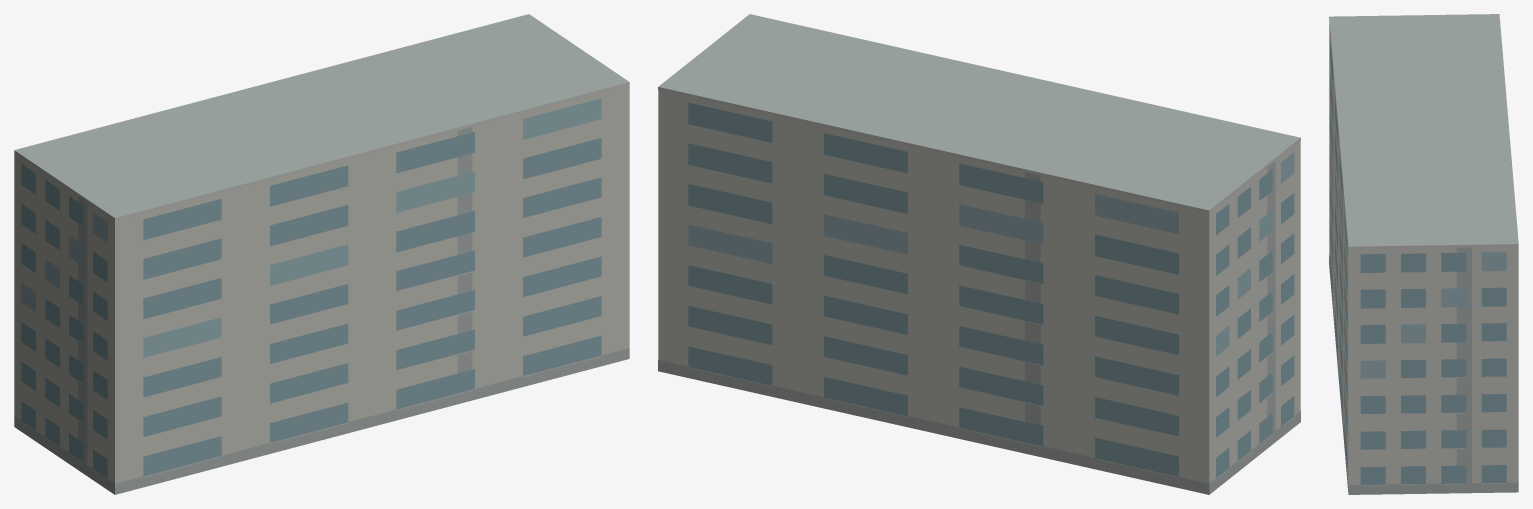
Rendered from residential-5dea3d6a-8963-4088-86a8-dba071104dfd.glb.
3 renders of one model, left to right at view 1: azimuth 30°, elevation 25°; view 2: azimuth 150°, elevation 25°; view 3: azimuth 270°, elevation 25°, orthographic. The views are drawn at different scales.
Visible parts, largest first — view 1: residential-5dea3d6a-8963-4088-86a8-dba071104dfd.tmp; view 2: residential-5dea3d6a-8963-4088-86a8-dba071104dfd.tmp; view 3: residential-5dea3d6a-8963-4088-86a8-dba071104dfd.tmp.
Boxes of the visible parts, left/top/right/bottom form: residential-5dea3d6a-8963-4088-86a8-dba071104dfd.tmp: left=14, top=14, right=629, bottom=494; residential-5dea3d6a-8963-4088-86a8-dba071104dfd.tmp: left=658, top=14, right=1300, bottom=494; residential-5dea3d6a-8963-4088-86a8-dba071104dfd.tmp: left=1329, top=14, right=1518, bottom=494.
Bounding box in the file's own units: 42.9 × 21.35 × 14.78.
